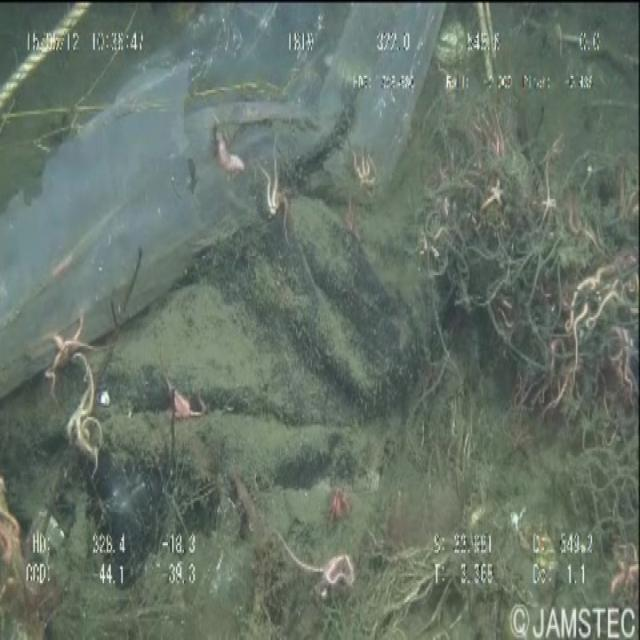Plastic: (1, 2, 464, 404)
